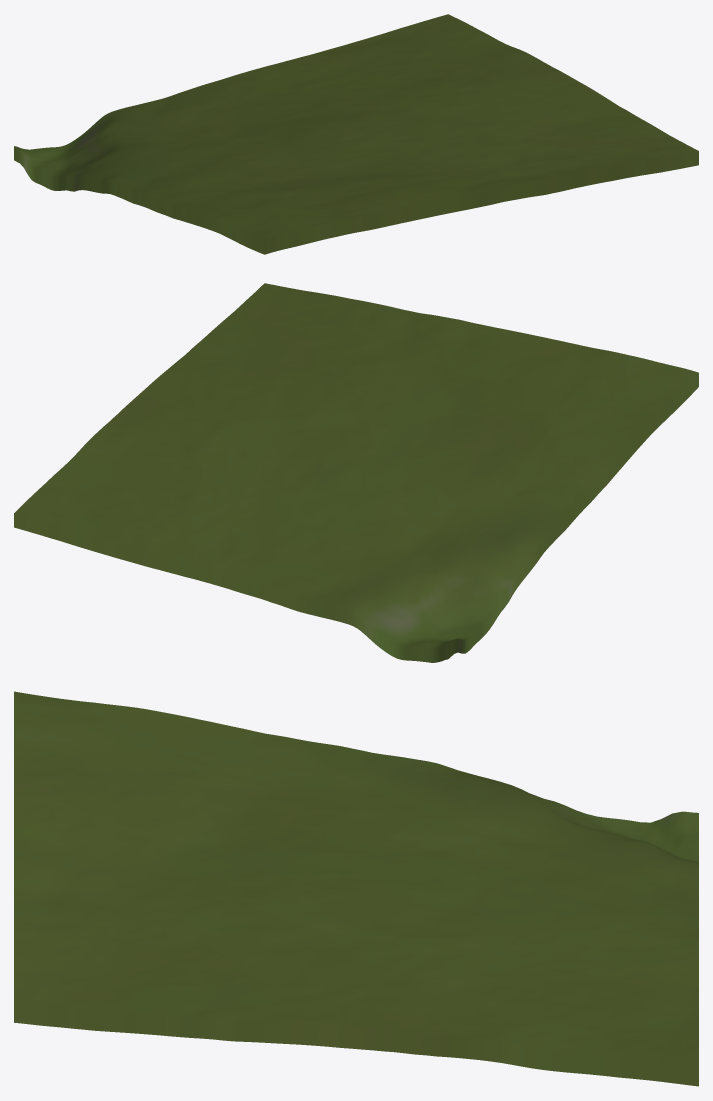
Rendered from terrain_4_-9.glb.
3 renders of one model, top to bottom at view 1: azimuth 30°, elevation 25°; view 2: azimuth 150°, elevation 25°; view 3: azimuth 270°, elevation 25°, orthographic. The views are drawn at different scales.
Visible parts, largest first — view 1: terrain_4_-9; view 2: terrain_4_-9; view 3: terrain_4_-9.
Boxes of the visible parts, x1,y1,x2,y2 form: terrain_4_-9: (14, 14, 698, 254); terrain_4_-9: (14, 283, 698, 662); terrain_4_-9: (14, 691, 698, 1086).
Size of the model in its own units: 256 by 65.25 by 256.
